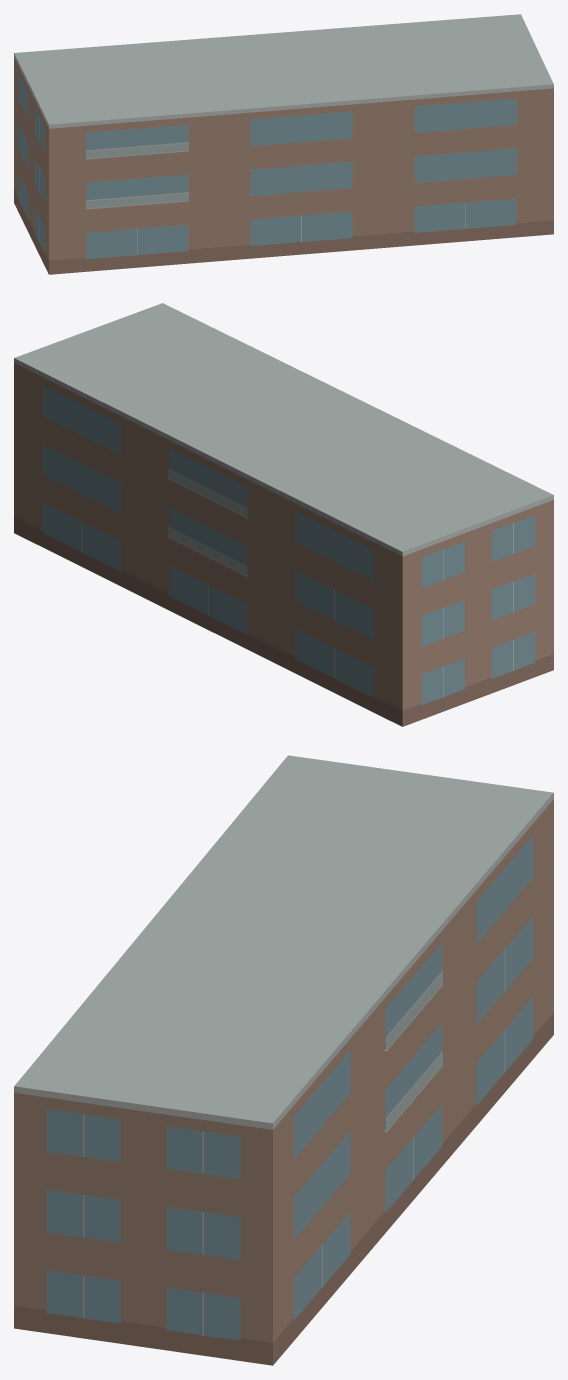
The model's file is survey-upis-32708257.glb.
The picture shows the model from 3 angles, top to bottom: view 1: azimuth 30°, elevation 25°; view 2: azimuth 150°, elevation 25°; view 3: azimuth 270°, elevation 25°; orthographic projection. The views are drawn at different scales.
Visible parts, largest first — view 1: survey-upis-32708257.tmp; view 2: survey-upis-32708257.tmp; view 3: survey-upis-32708257.tmp.
Part boxes in pixels (box(x1,y1,x2,y2)): survey-upis-32708257.tmp: box(14, 14, 553, 274); survey-upis-32708257.tmp: box(14, 303, 553, 726); survey-upis-32708257.tmp: box(14, 755, 553, 1365).
Bounding box in the file's own units: 29.84 × 9.15 × 18.49.
